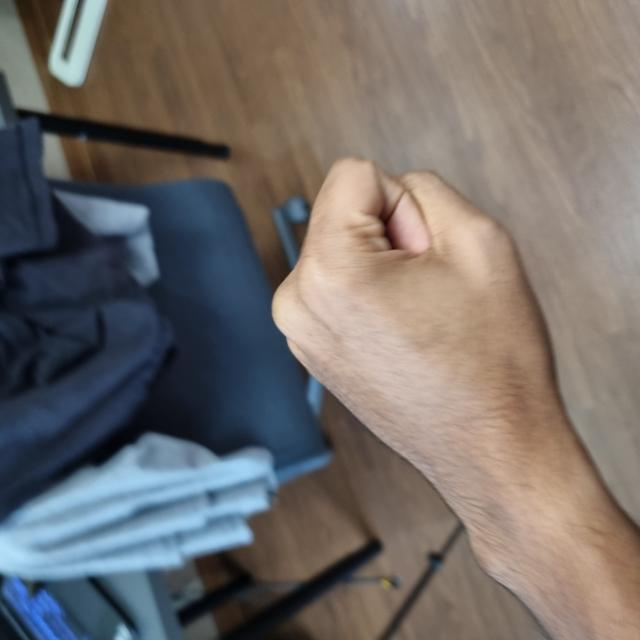Rock: (161, 274, 481, 547)
